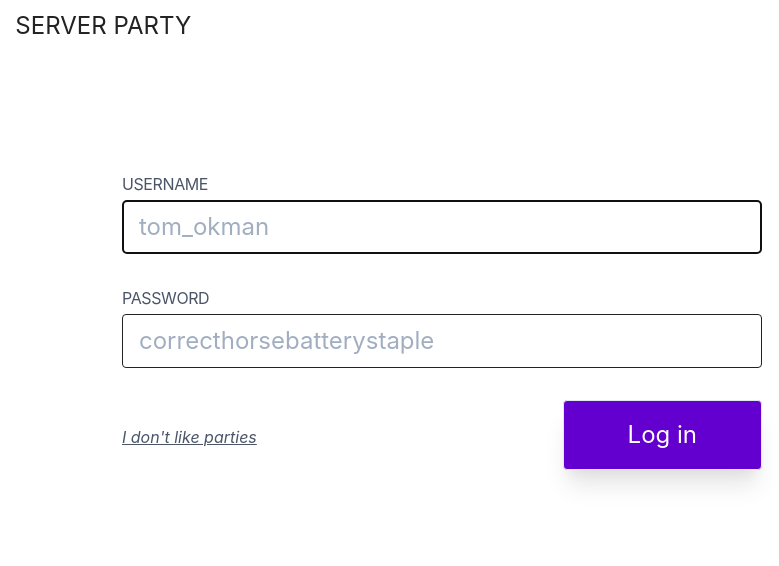
Test: Login › Shows an error if it was not known / unknown
What coordinates should you click on to do the following:
click the button with test id "login-button"
I would click on:
 (662, 435)
Its box is top-left (563, 400), bottom-right (762, 470).
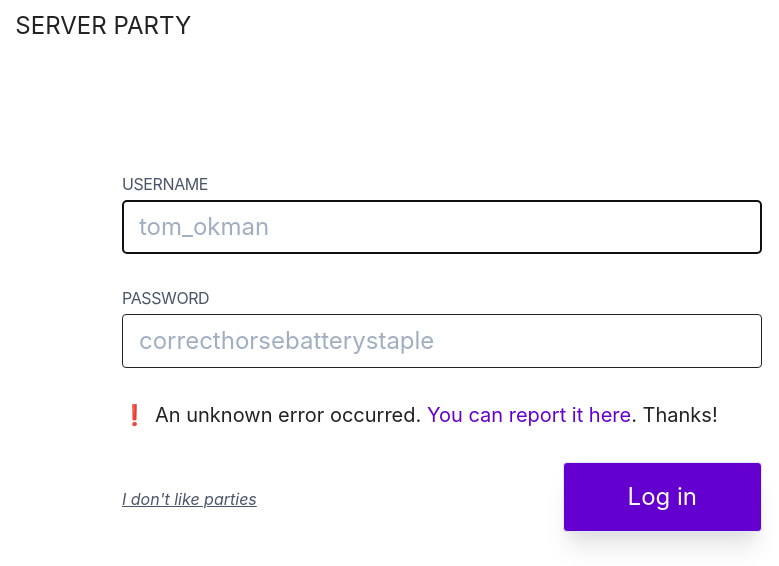
Check: the picture named "attention" is shown, box top-left (122, 400), bottom-right (147, 430)
